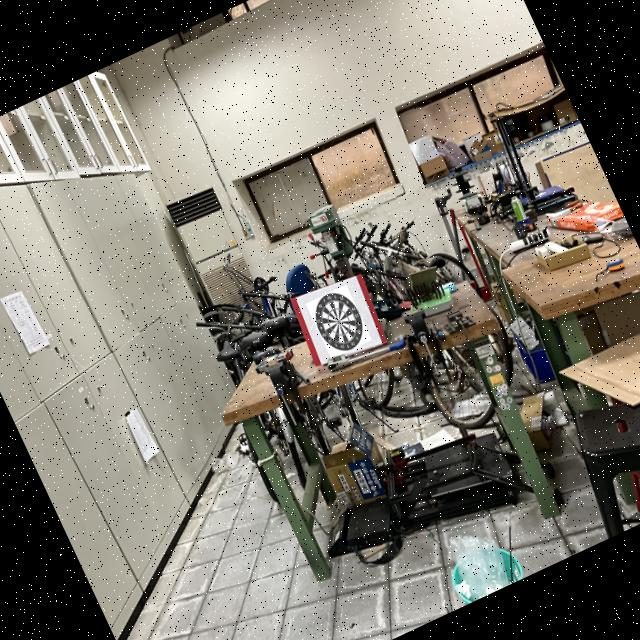archery-targets: (306, 284, 372, 358)
